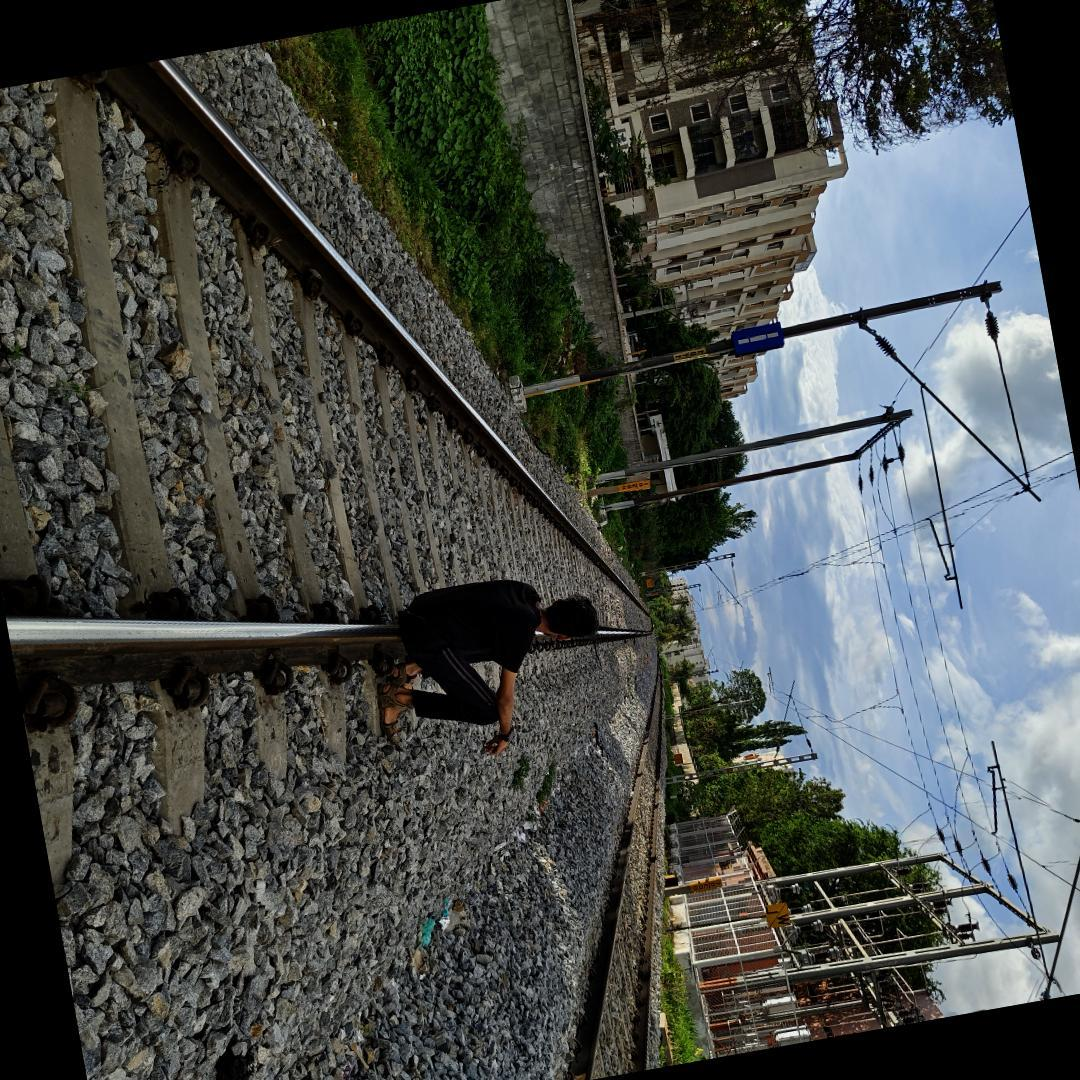sitting: (357, 550, 624, 777)
